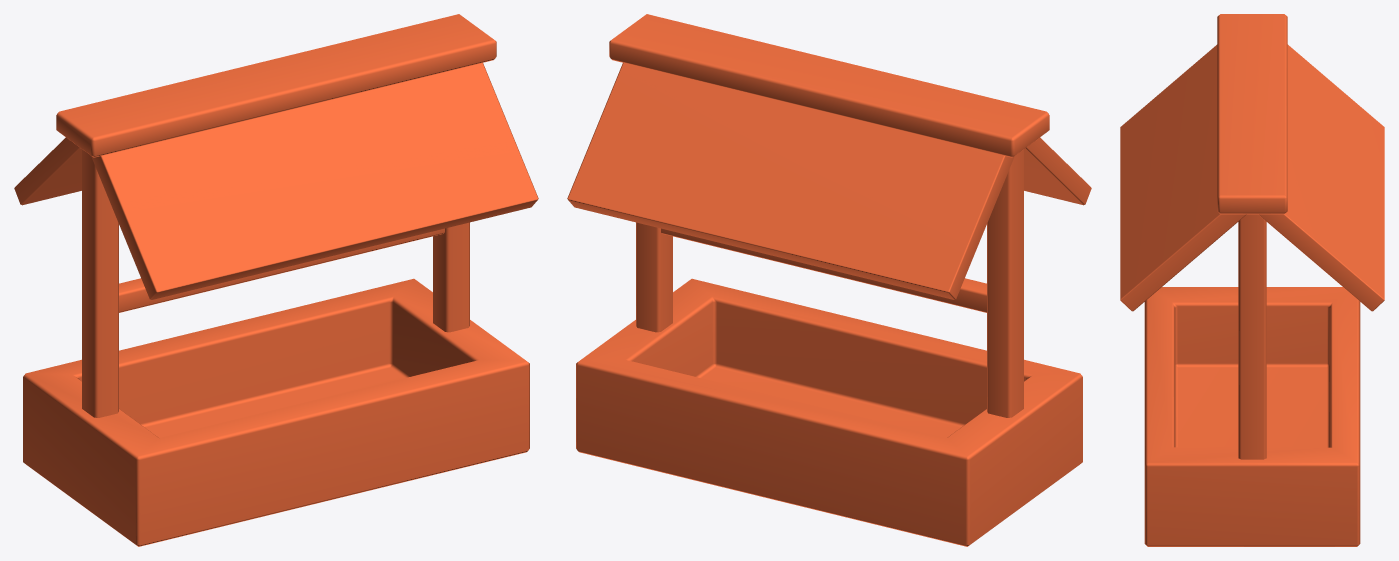
The model's file is Farm_14_Feeder_1.glb.
3 views of the same model, side by side, from view 1: azimuth 30°, elevation 25°; view 2: azimuth 150°, elevation 25°; view 3: azimuth 270°, elevation 25° (orthographic). The views are drawn at different scales.
Visible parts, largest first — view 1: Farm_14_Feeder_1; view 2: Farm_14_Feeder_1; view 3: Farm_14_Feeder_1.
Part boxes in pixels (box(x1,y1,x2,y2)): Farm_14_Feeder_1: box(14, 14, 538, 546); Farm_14_Feeder_1: box(567, 14, 1091, 546); Farm_14_Feeder_1: box(1120, 14, 1384, 546).
Bounding box in the file's own units: 0.8116 × 0.7315 × 0.4943.
1 material, 1 textured.
